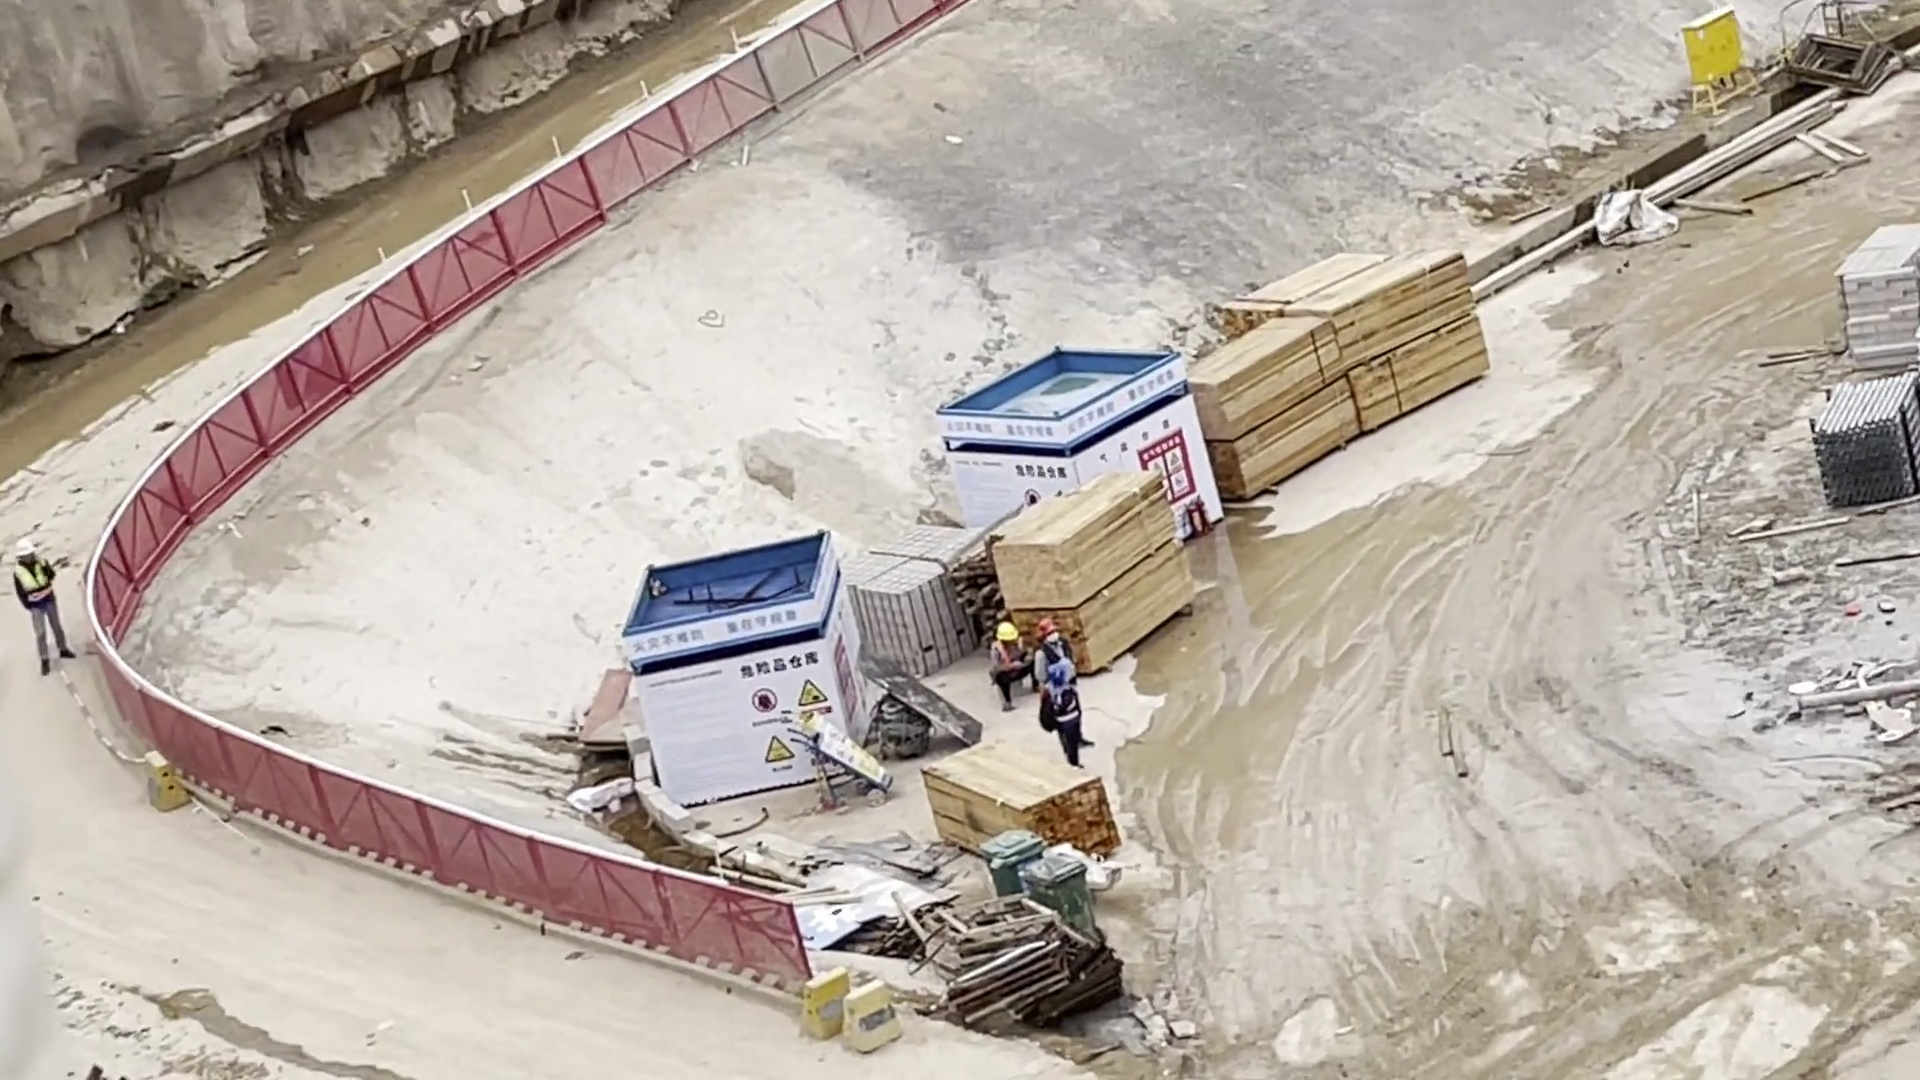fence: (150, 706, 804, 980), (102, 281, 523, 576), (506, 116, 725, 220), (374, 189, 600, 283), (85, 579, 205, 756), (639, 50, 832, 137), (775, 1, 943, 81)
helmet: (16, 538, 39, 557), (997, 623, 1021, 639)
person: (1038, 620, 1094, 770), (15, 539, 70, 680), (990, 619, 1033, 708)
scaffold: (1819, 376, 1919, 512)
vest: (15, 562, 58, 602)
wood: (1182, 251, 1504, 500), (985, 480, 1197, 672), (923, 738, 1132, 869)
